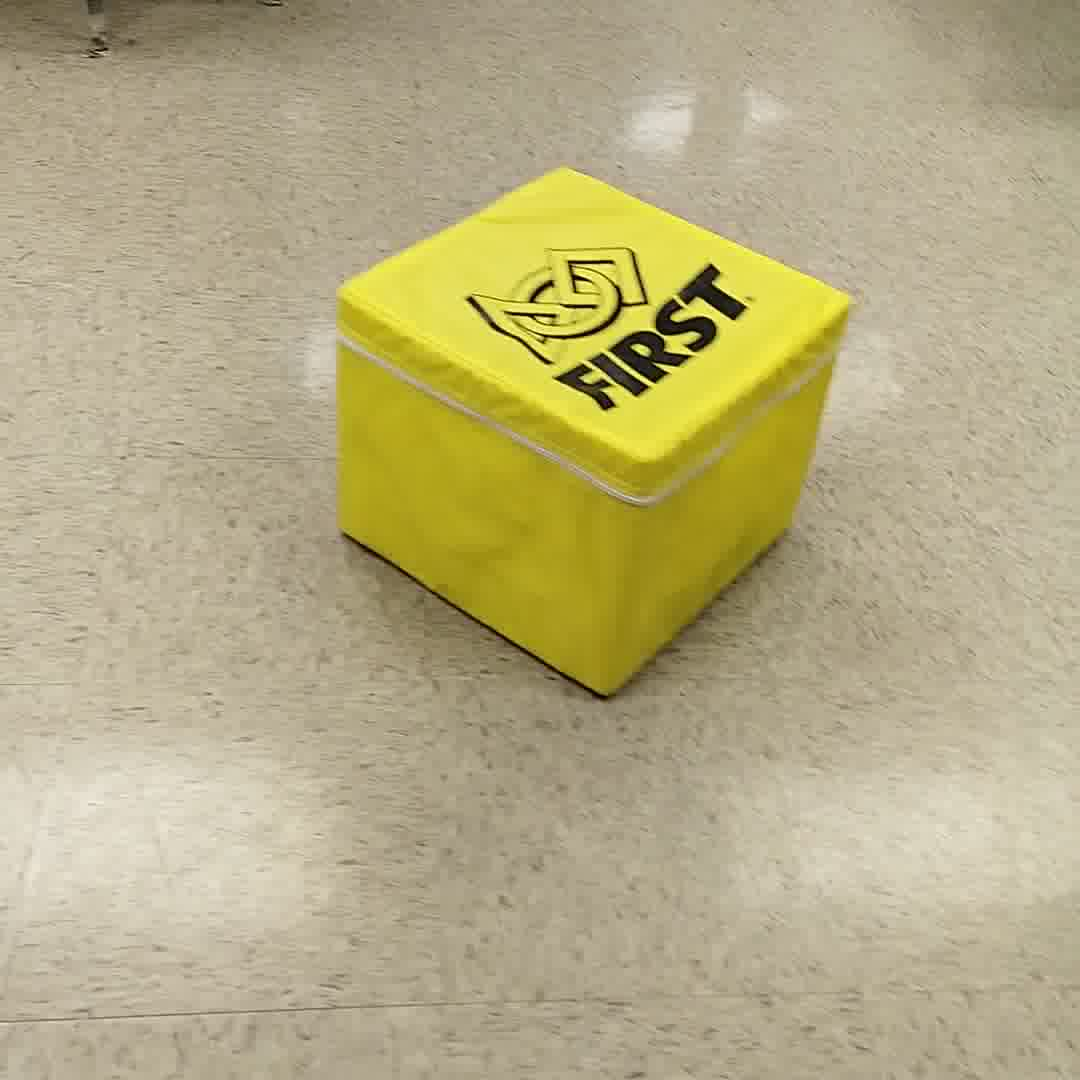box: (324, 147, 855, 708)
